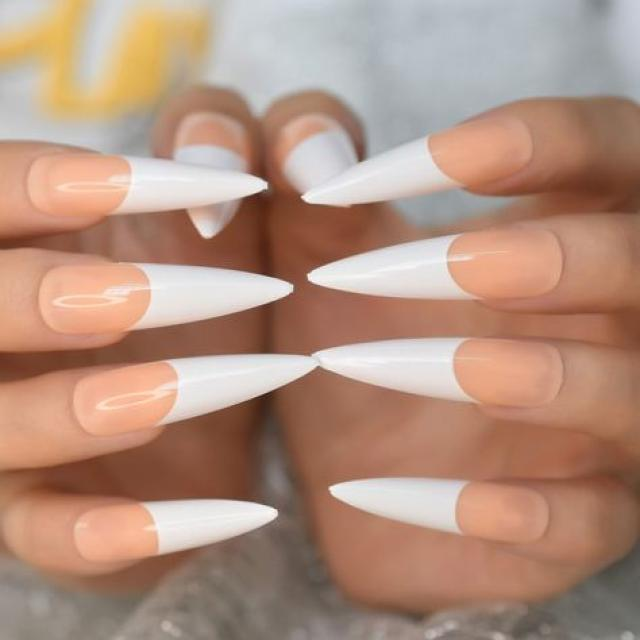Fingernail: (301, 114, 532, 205), (73, 353, 320, 438), (308, 226, 562, 301), (38, 262, 294, 336), (312, 338, 565, 407), (27, 155, 268, 218), (328, 477, 551, 545), (73, 499, 279, 563)
